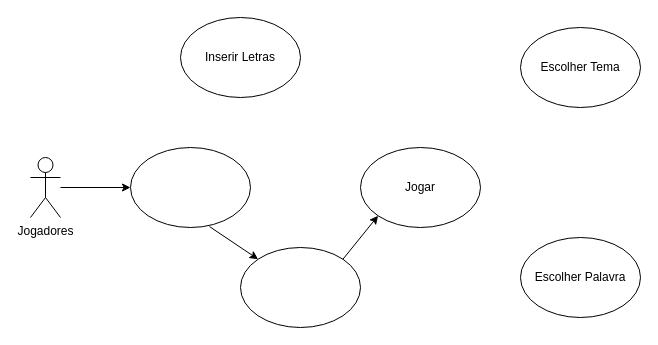
The diagram is 658 pixels wide and 345 high, and some of its shapes have lost their labels. The shapes that lost their labels are listed below. From the top down, each one's centre as x and y in pixels, then its label:
At (190,187): "Cadastrar Jogadores".
At (300,287): "Registrar Pontuação".
